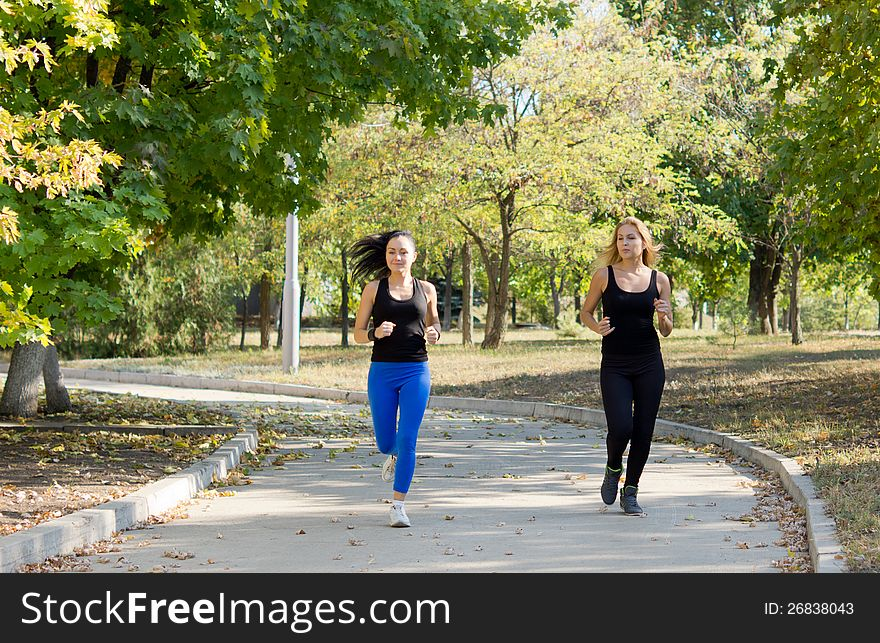Person: (578, 217, 675, 515), (351, 230, 443, 529)
